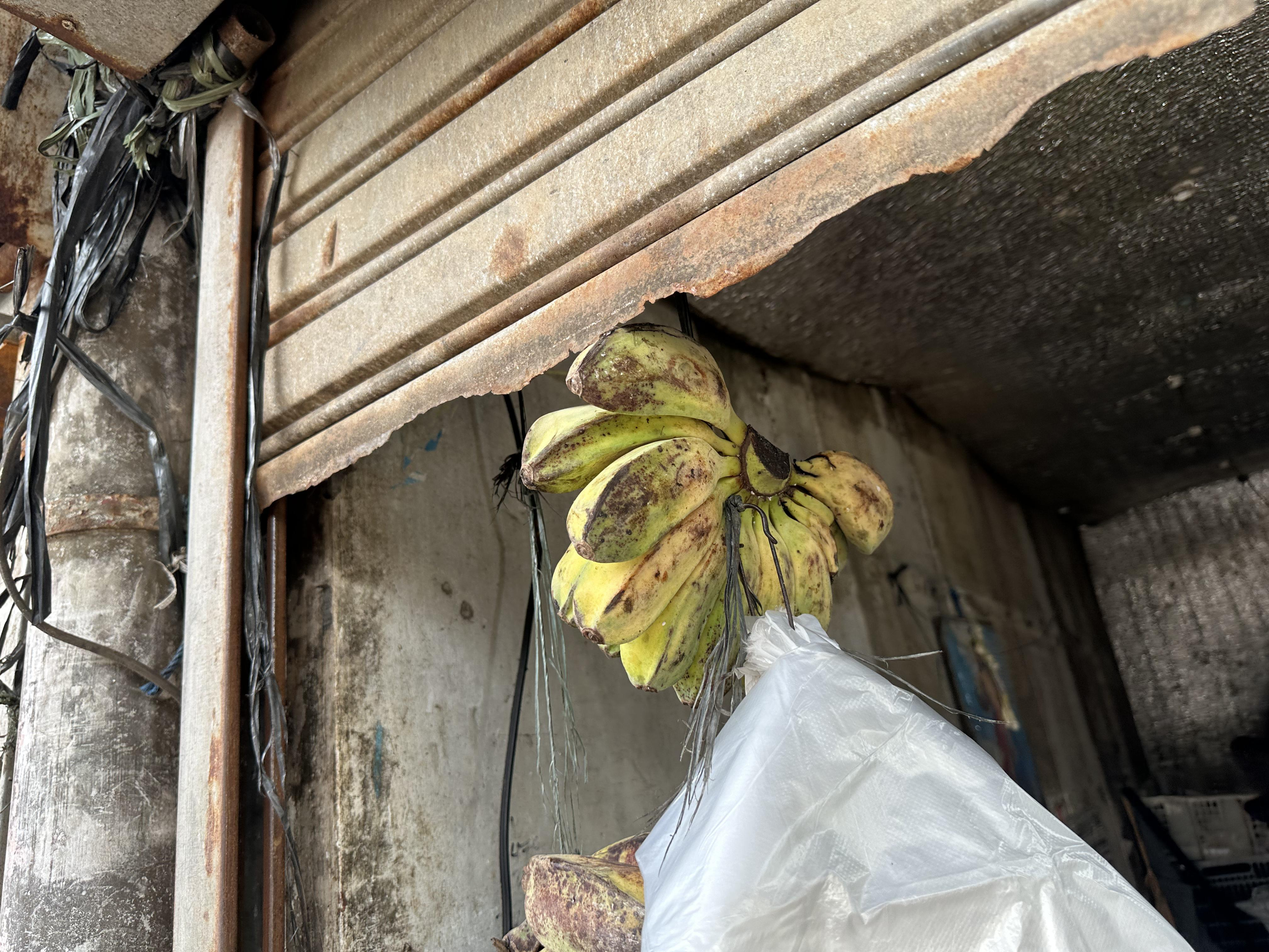underripe: (521, 322, 732, 706), (772, 450, 896, 632)
